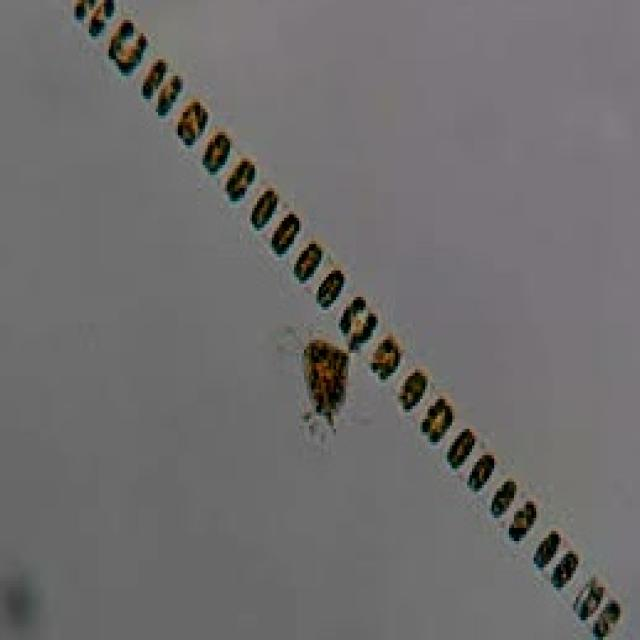Skeletonema: (70, 3, 637, 640)
